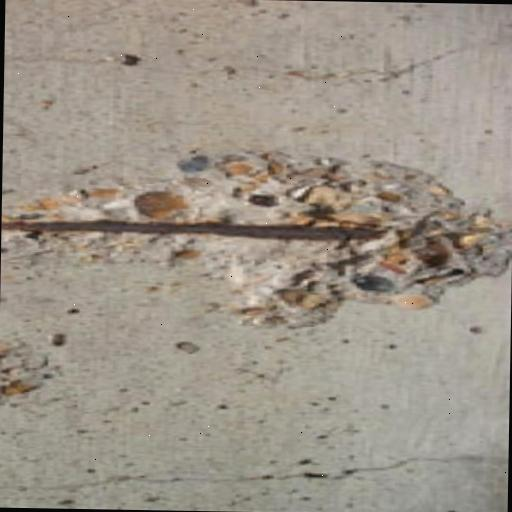spalling: (0, 147, 511, 336)
